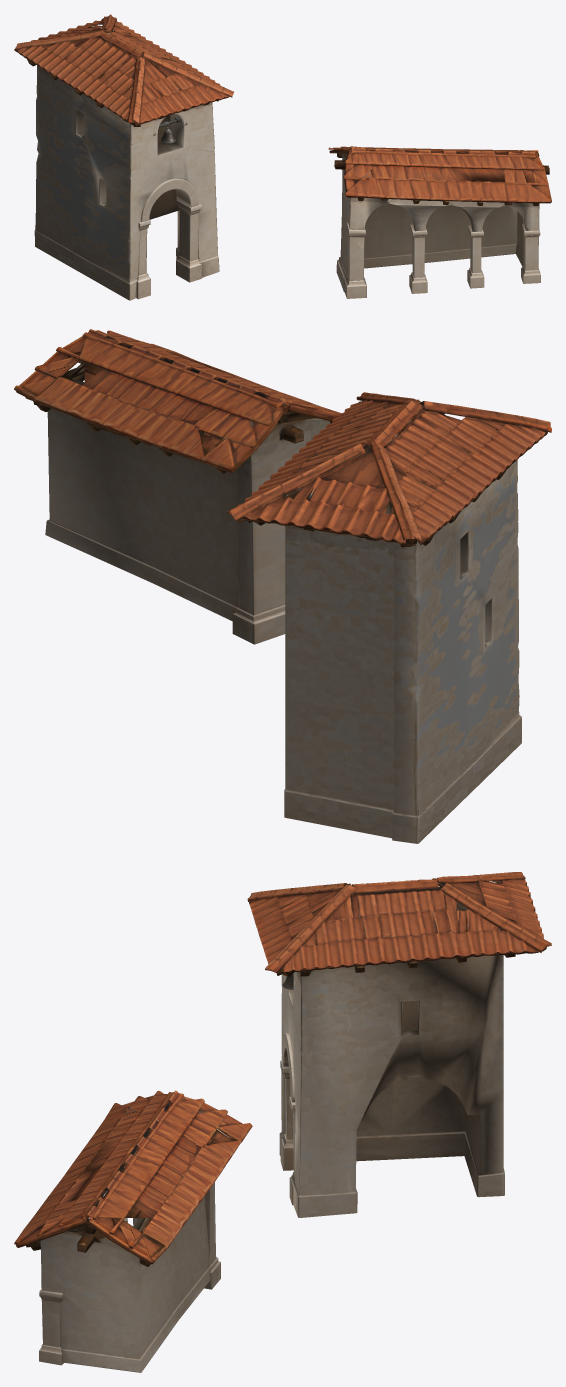
File: act1_kit_v1_R16_gentle_gate_cloister.glb
3 views of the same model, one above another, from view 1: azimuth 30°, elevation 25°; view 2: azimuth 150°, elevation 25°; view 3: azimuth 270°, elevation 25° (orthographic). The views are drawn at different scales.
Visible parts, largest first — view 1: a5ab90d9_04b4_45da_92d7_d2df3d054a17; view 2: a5ab90d9_04b4_45da_92d7_d2df3d054a17; view 3: a5ab90d9_04b4_45da_92d7_d2df3d054a17.
Part boxes in pixels (x1,y1,x2,y2): a5ab90d9_04b4_45da_92d7_d2df3d054a17: (14,14,551,300); a5ab90d9_04b4_45da_92d7_d2df3d054a17: (14,329,551,843); a5ab90d9_04b4_45da_92d7_d2df3d054a17: (14,872,551,1372).
Size of the model in its own units: 0.9995 by 0.5513 by 0.897.
Materials: 1 (1 with a texture image).
